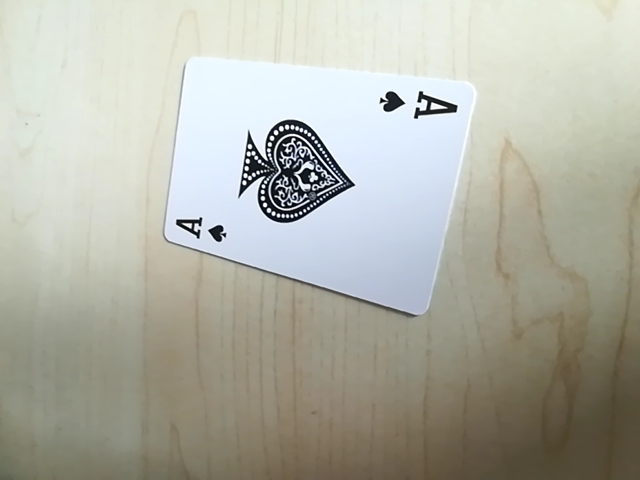ht a: (373, 85, 461, 129), (164, 213, 231, 248)
